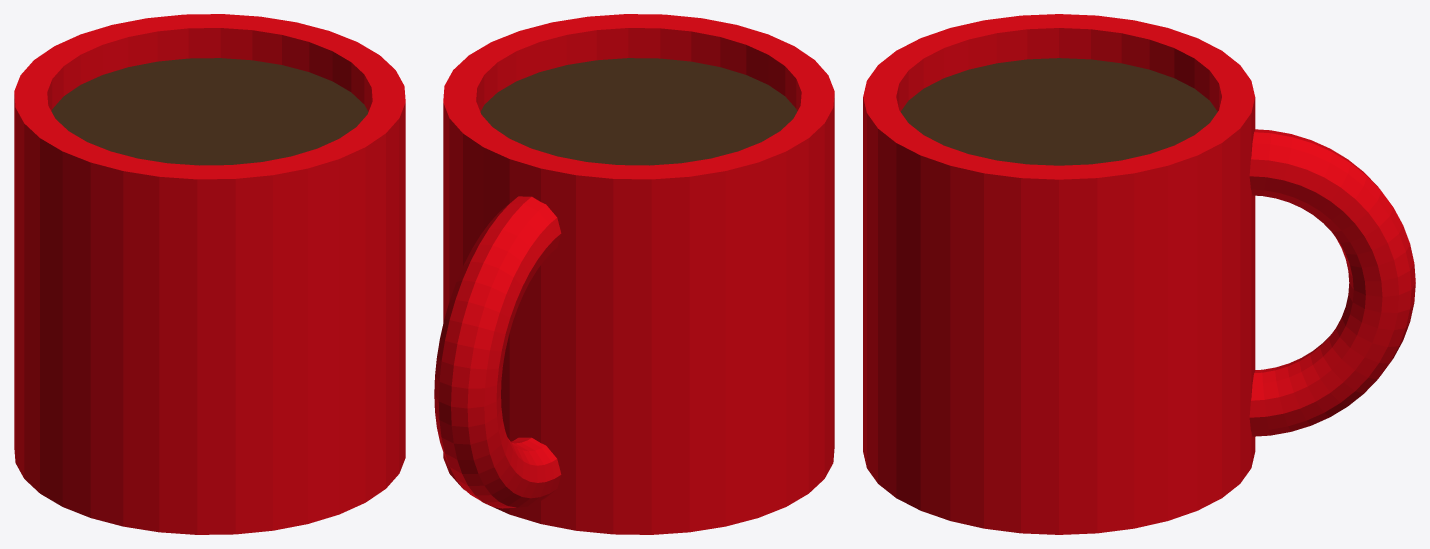
File: mug.fbx
The picture shows the model from 3 angles, left to right: view 1: azimuth 30°, elevation 25°; view 2: azimuth 150°, elevation 25°; view 3: azimuth 270°, elevation 25°; orthographic projection.
Parts seen in each view (by area): view 1: Cylinder.021; view 2: Cylinder.021, Torus; view 3: Cylinder.021, Torus.
Part boxes in pixels (left/top/right/bottom): Cylinder.021: left=14, top=14, right=405, bottom=534; Cylinder.021: left=443, top=14, right=834, bottom=534; Torus: left=434, top=196, right=561, bottom=508; Cylinder.021: left=863, top=14, right=1255, bottom=534; Torus: left=1249, top=129, right=1415, bottom=436.
Size of the model in its own units: 29.7 by 29.7 by 41.88.
